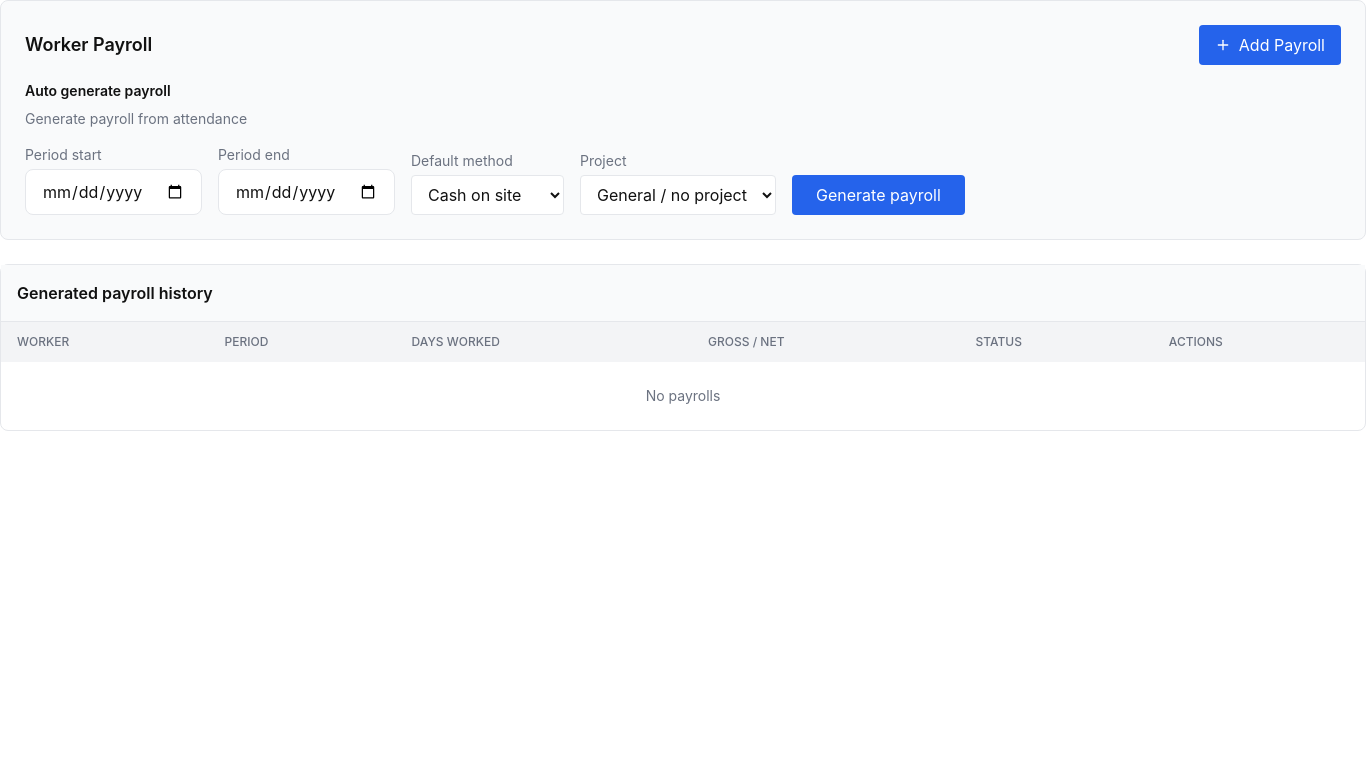
it: WorkerPayrollManager › blocks payroll generation and lists dates when attendance is missing
Expected: the heading "Worker Payroll" is shown, [25,31,152,59]
Type "2026-08-05" into the date field labelled "Period start".
click(114, 192); type("2026-08-05")  # box [25,169,202,215]
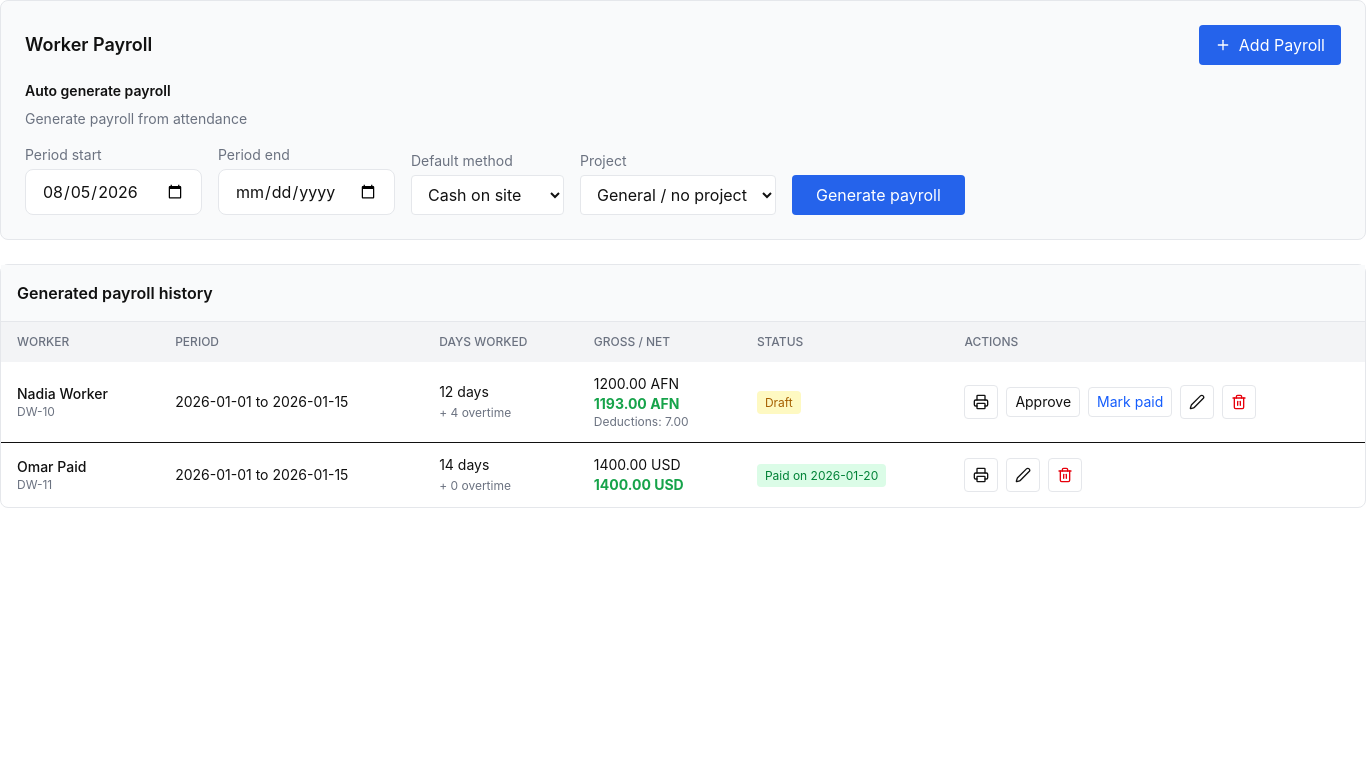
Type "2026-08-08" into the date field labelled "Period end".
click(306, 192); type("2026-08-08")  # box [218,169,395,215]
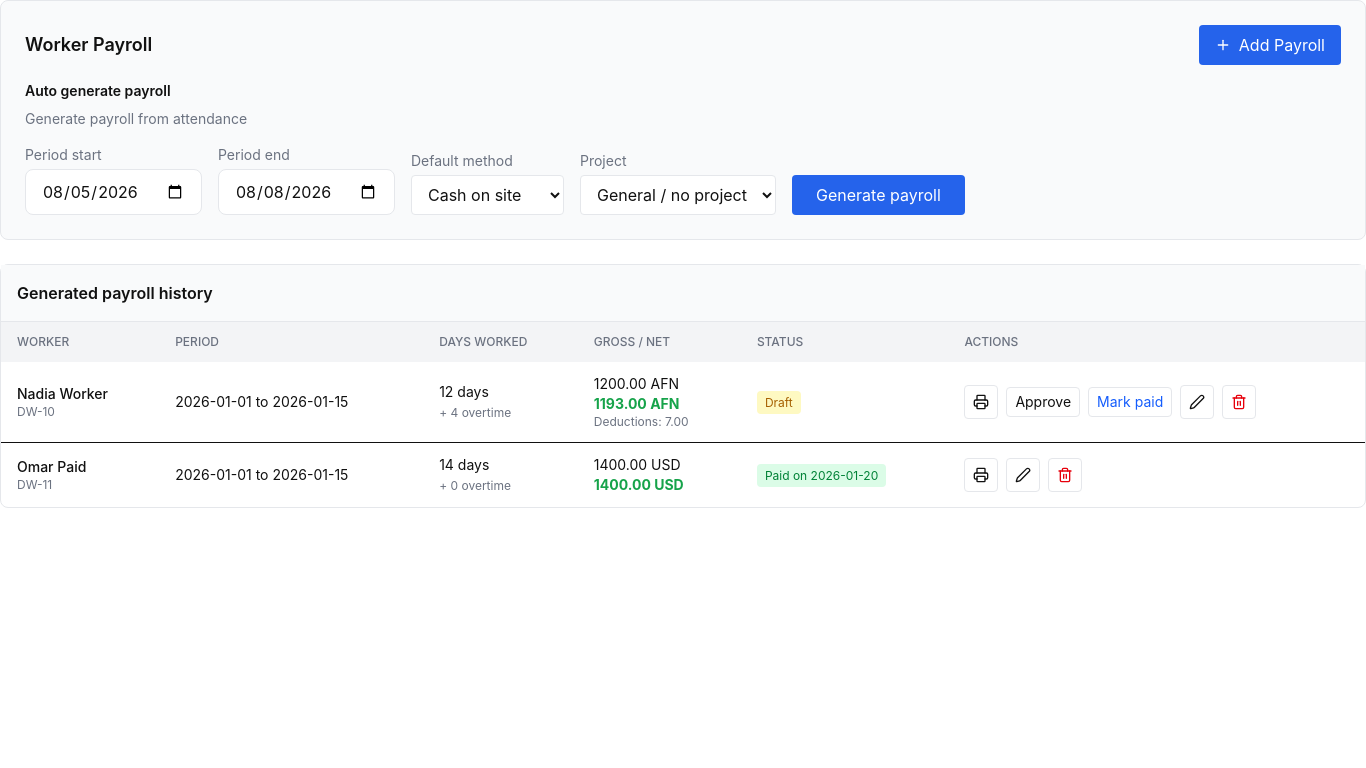
Click the button "Generate payroll".
click(878, 195)  # box [792,175,965,215]
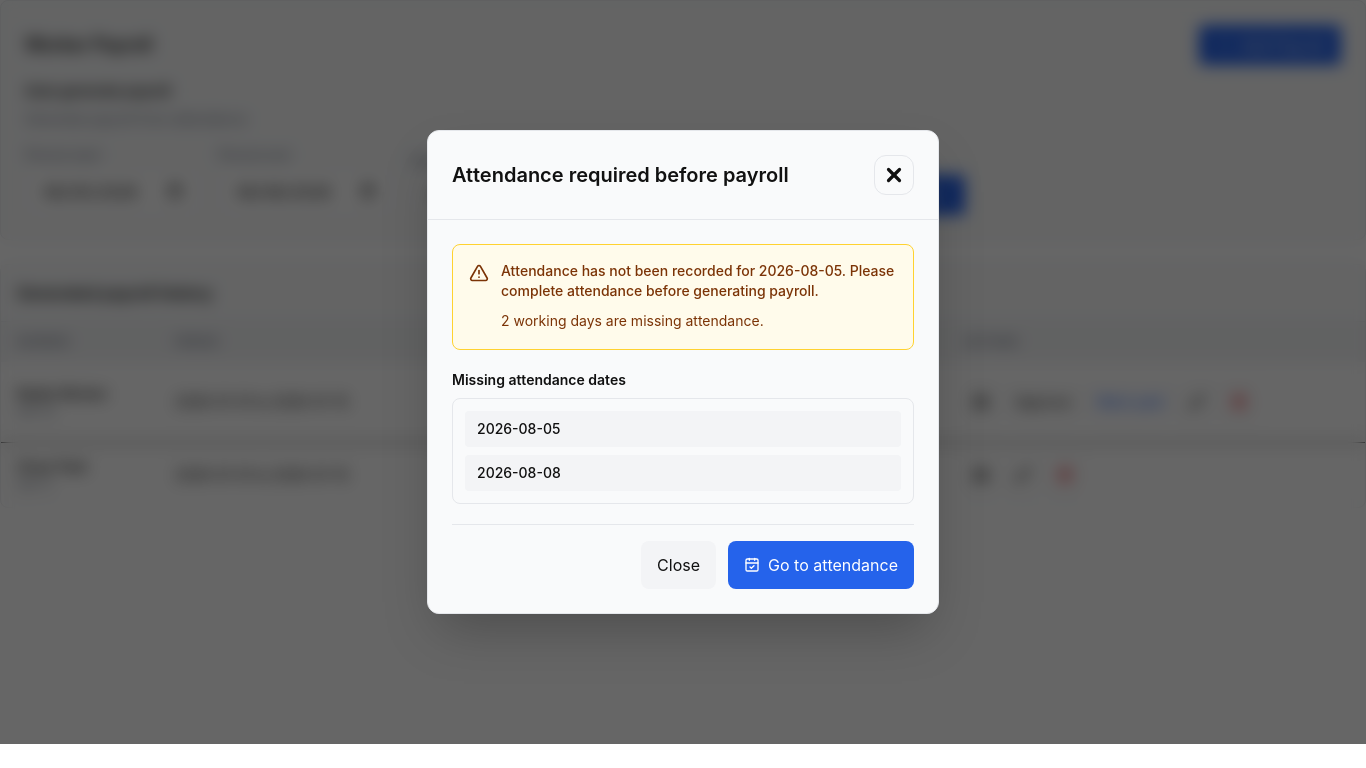
Now the heading "Attendance required before payroll" is shown, box [452,161,789,189]
Now the text "Attendance has not been recorded for 2026-08-05. Please complete attendance before generating payroll." is shown, box [501,261,897,301]
Now the list item "2026-08-05" is shown, box [465,411,901,447]
Click the button "Go to attendance".
click(821, 565)  # box [728,541,914,589]
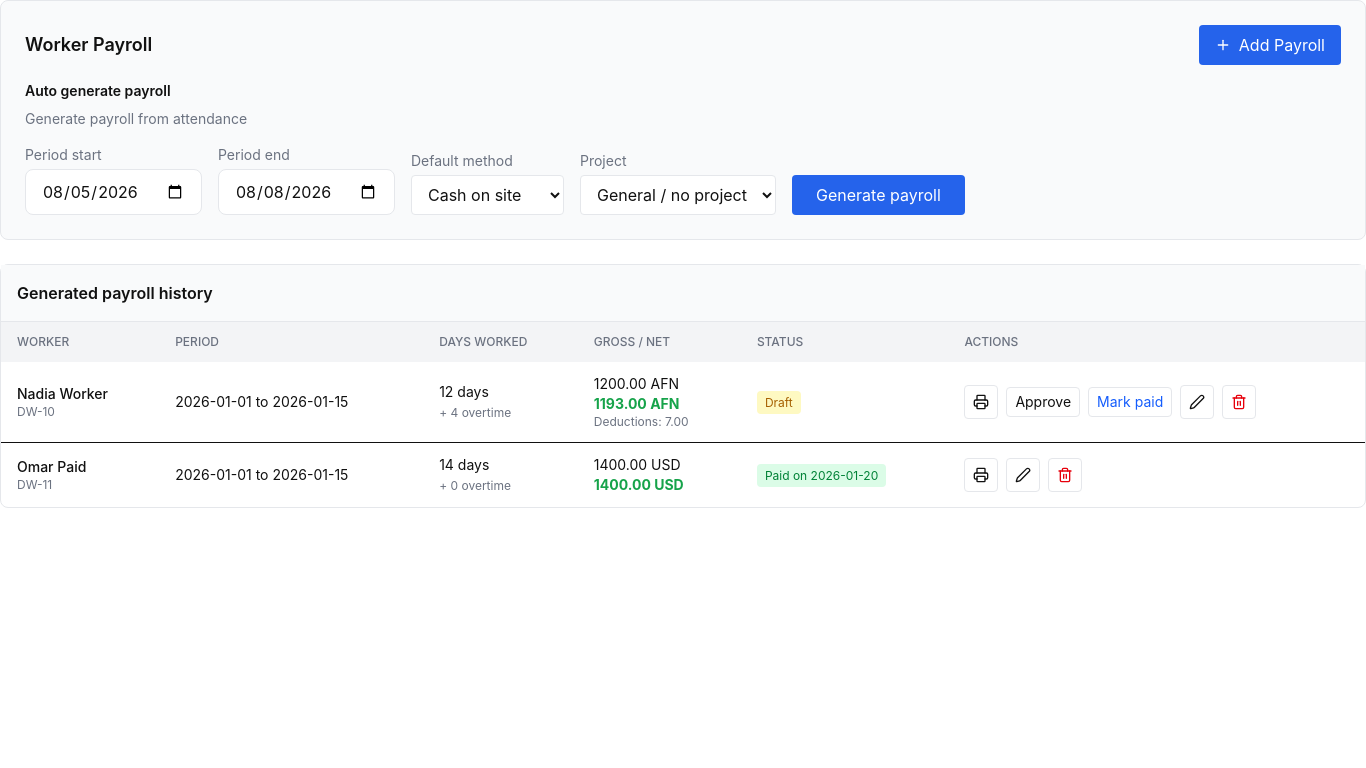
Now the heading "Attendance required before payroll" is gone
